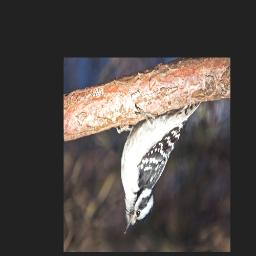Woodpecker: (114, 102, 201, 237)
